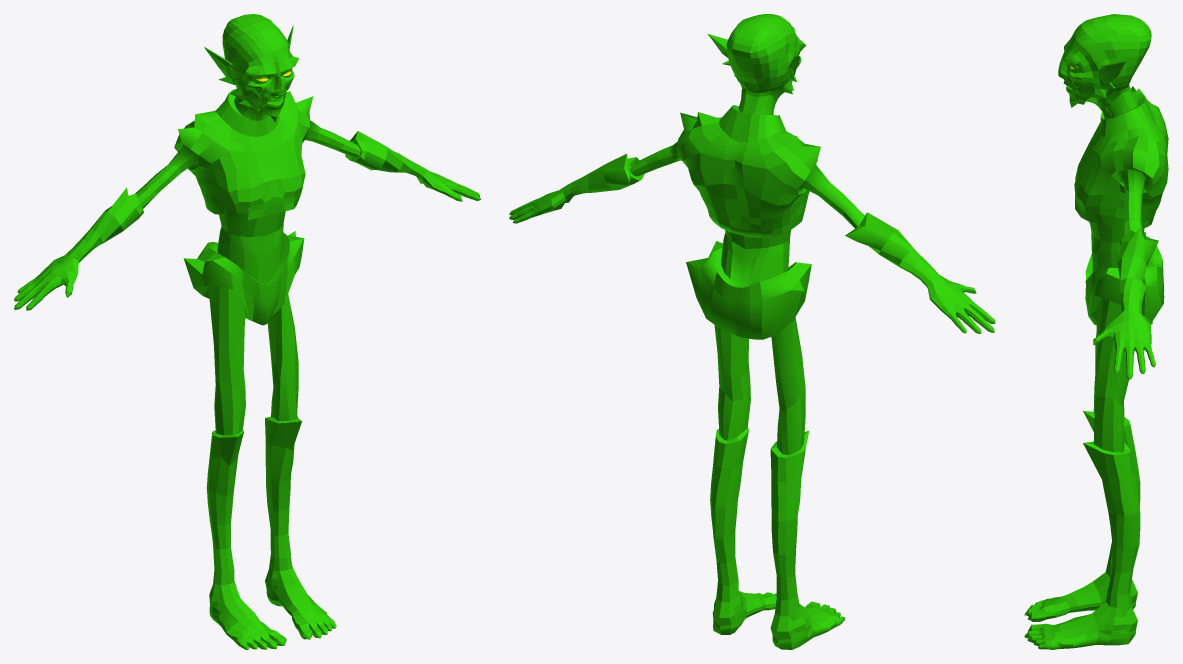
Rendered from Goblin_Alien.fbx.
3 renders of one model, left to right at view 1: azimuth 30°, elevation 25°; view 2: azimuth 150°, elevation 25°; view 3: azimuth 270°, elevation 25°, orthographic. The views are drawn at different scales.
Visible parts, largest first — view 1: GenericMesh1; view 2: GenericMesh1; view 3: GenericMesh1.
Part boxes in pixels (x1=…): GenericMesh1: x1=14, y1=14, x2=480, y2=649; GenericMesh1: x1=509, y1=14, x2=995, y2=649; GenericMesh1: x1=1024, y1=14, x2=1168, y2=649.
Bounding box in the file's own units: 29.28 × 35.63 × 7.64.
